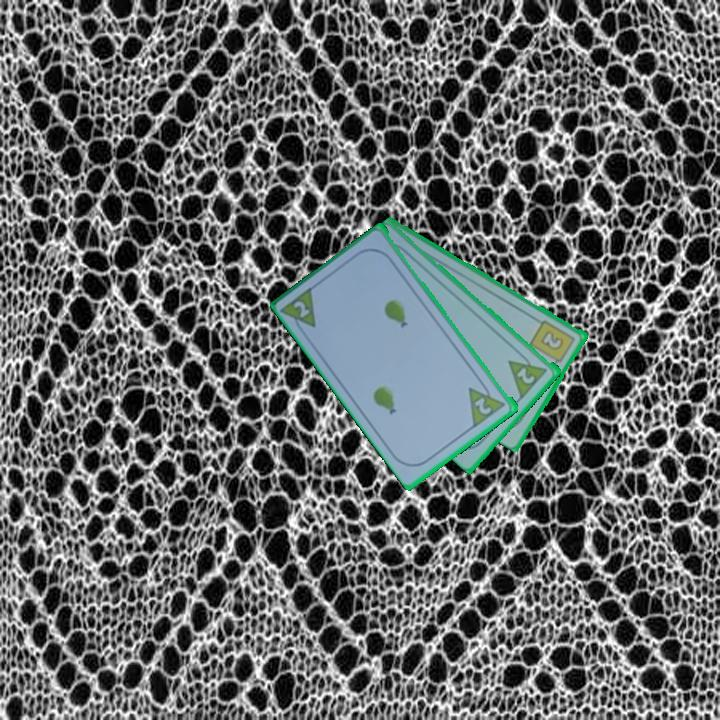2b: (527, 316, 578, 370)
2p: (505, 347, 551, 400), (471, 394, 495, 418), (290, 297, 313, 321)
